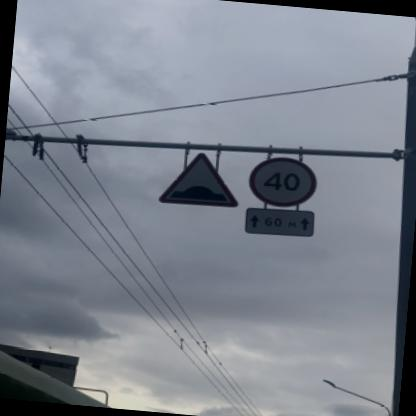speedlimit: (243, 152, 317, 209)
